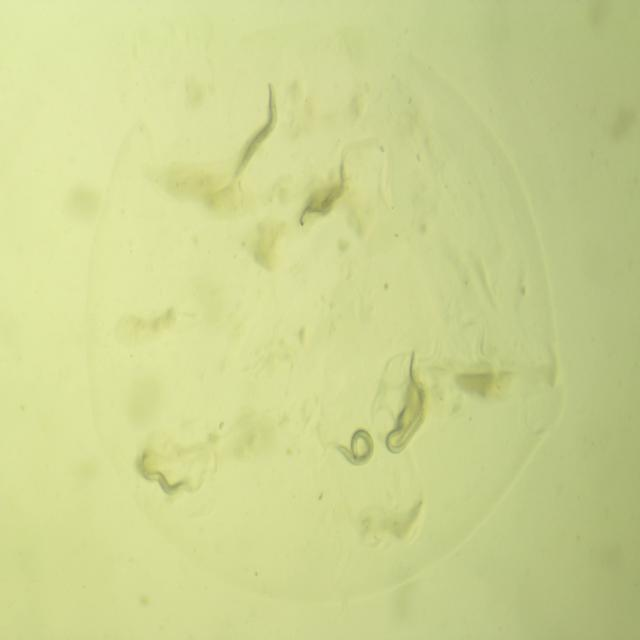worm: (226, 76, 283, 189), (292, 146, 356, 238), (130, 434, 195, 506), (380, 381, 432, 465), (391, 339, 427, 455), (324, 416, 379, 472)
